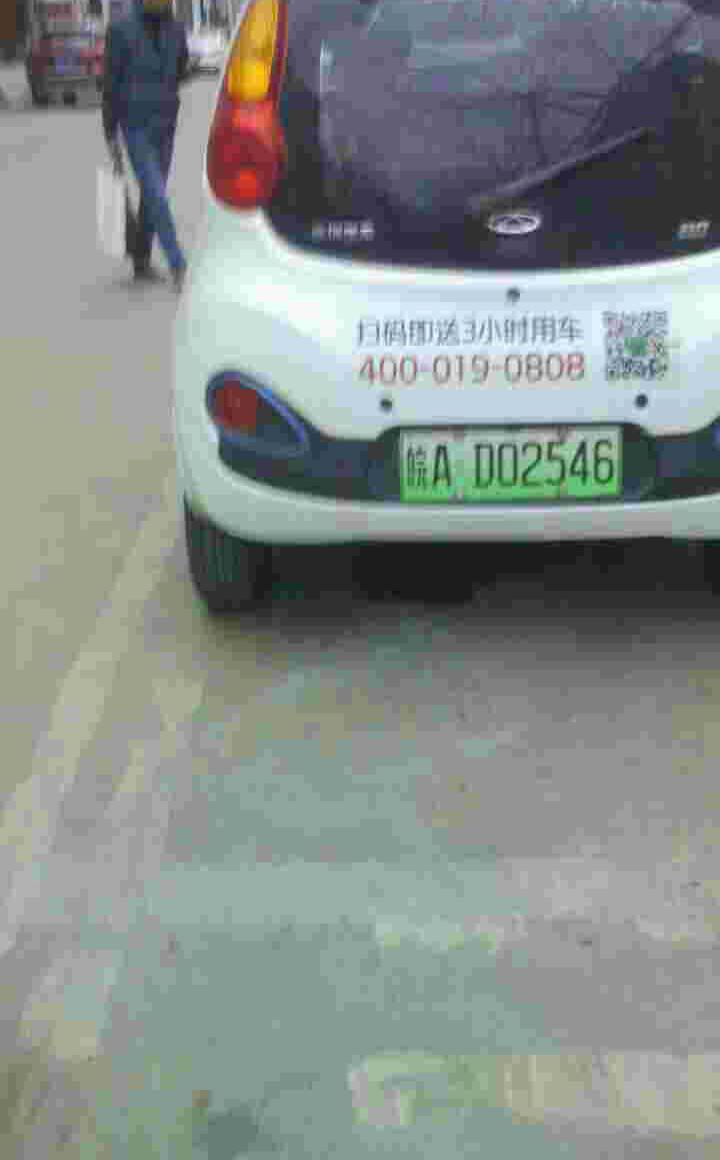car_green: (398, 432, 624, 500)
